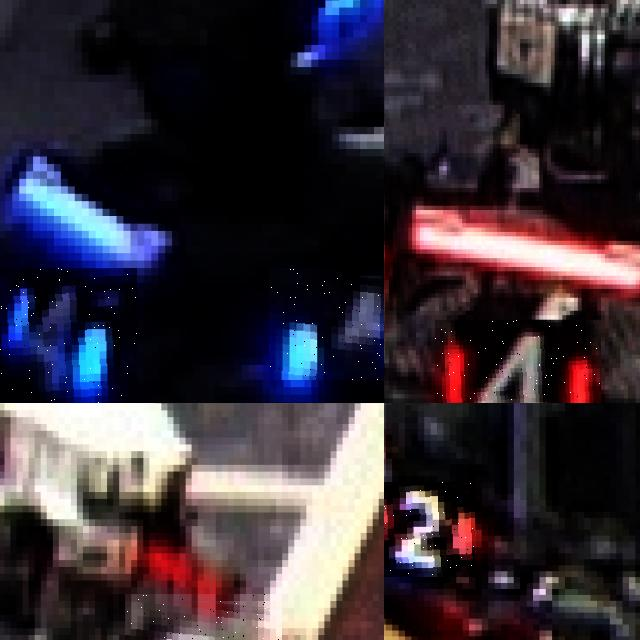B4: (0, 268, 137, 403), (269, 268, 384, 379)
R2: (384, 482, 475, 577)
R3: (125, 594, 282, 640)
R4: (435, 319, 601, 403)
